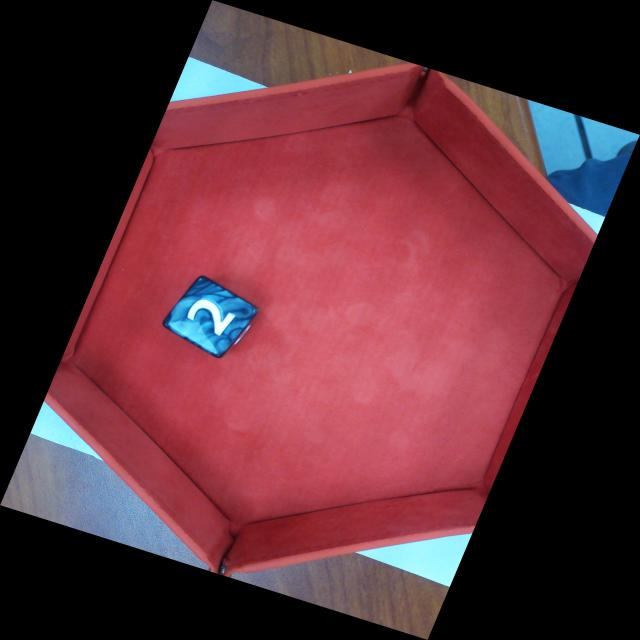dice: (161, 272, 262, 358)
